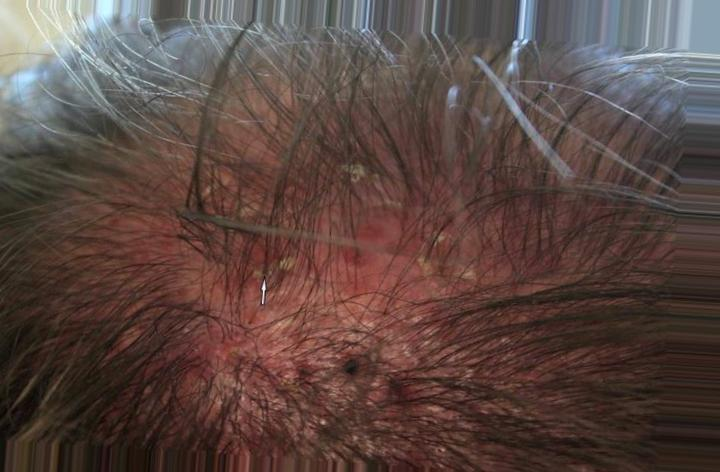Folliculitis: (193, 177, 411, 410)
